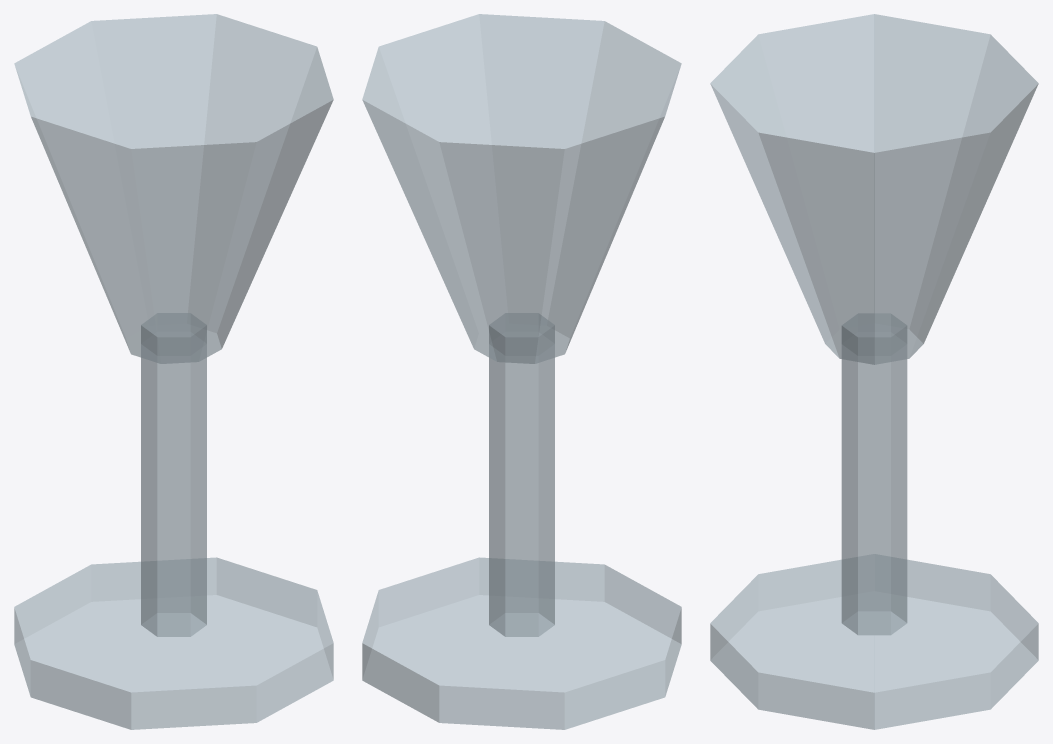
Rendered from wine_glass.glb.
The picture shows the model from 3 angles, left to right: view 1: azimuth 30°, elevation 25°; view 2: azimuth 150°, elevation 25°; view 3: azimuth 270°, elevation 25°; orthographic projection.
Parts seen in each view (by area): view 1: wine_glass; view 2: wine_glass; view 3: wine_glass.
Part boxes in pixels (x1,y1,x2,y2): wine_glass: (14,14,333,729); wine_glass: (362,14,681,729); wine_glass: (710,14,1038,729).
Size of the model in its own units: 0.08 by 0.155 by 0.08.
